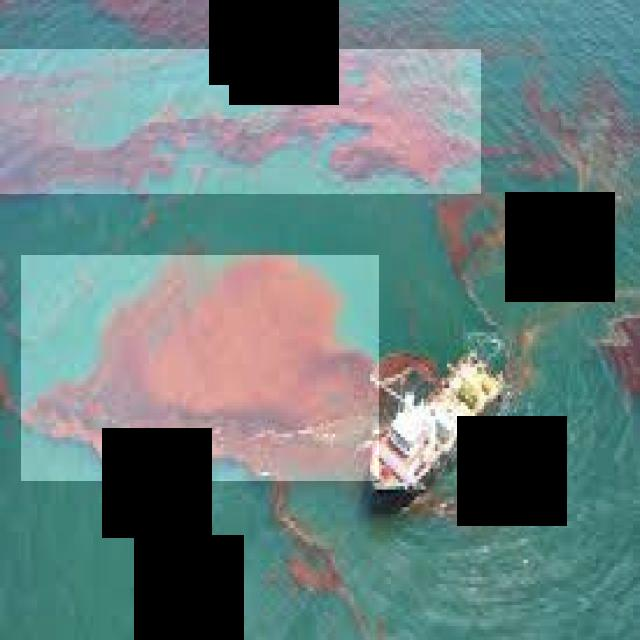oil spill: (21, 255, 379, 481), (0, 49, 481, 194)
